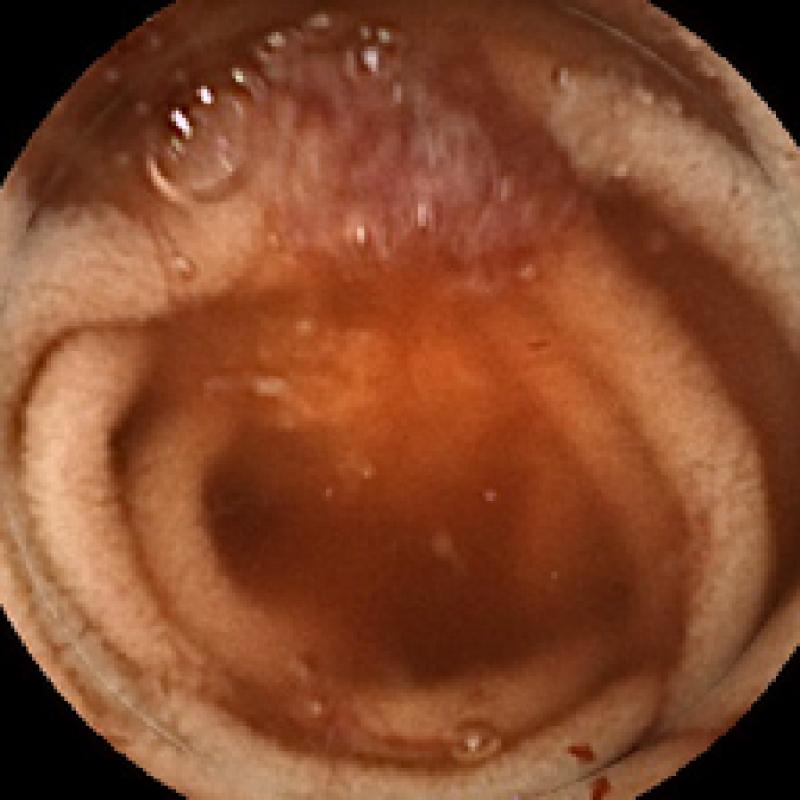bleeding: (225, 57, 557, 257)
